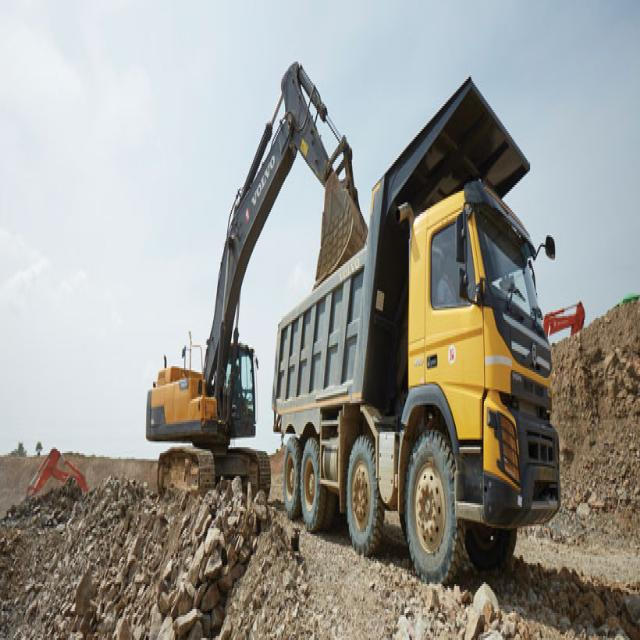dump_truck: (282, 68, 579, 588)
excavator: (103, 45, 369, 378), (544, 267, 589, 348)
